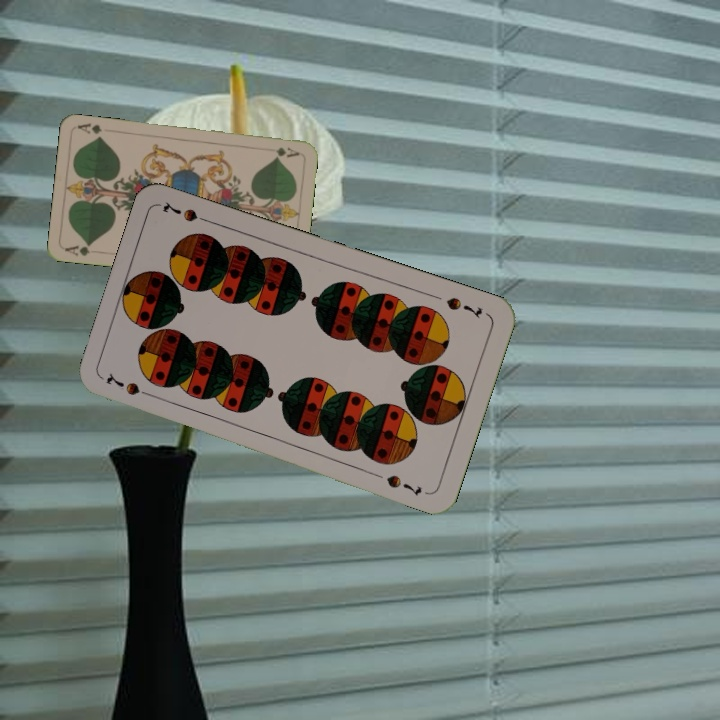GA: (262, 143, 302, 160), (62, 240, 94, 259)
S7: (102, 370, 158, 400), (442, 292, 485, 321)
